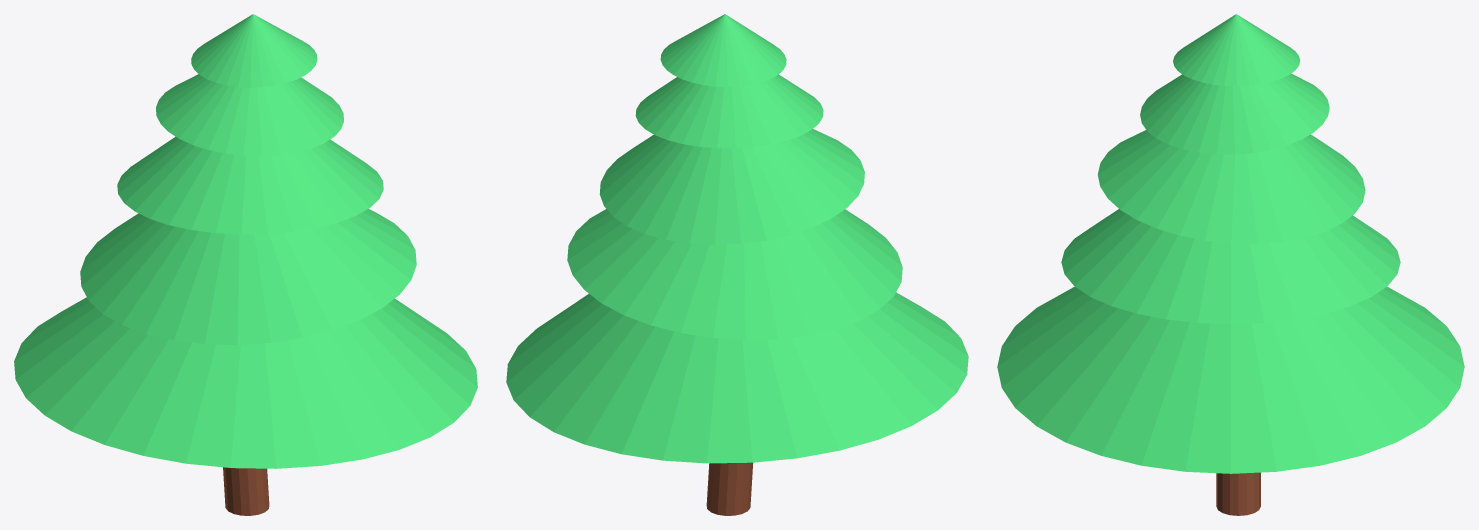
The model's file is Tree2.fbx.
3 renders of one model, left to right at view 1: azimuth 30°, elevation 25°; view 2: azimuth 150°, elevation 25°; view 3: azimuth 270°, elevation 25°, orthographic.
Visible parts, largest first — view 1: Cone, Cylinder; view 2: Cone, Cylinder; view 3: Cone, Cylinder.
Part boxes in pixels (left/top/right/bottom): Cone: left=14, top=14, right=477, bottom=468; Cylinder: left=223, top=467, right=269, bottom=515; Cone: left=506, top=14, right=968, bottom=463; Cylinder: left=706, top=462, right=753, bottom=515; Cone: left=997, top=14, right=1464, bottom=473; Cylinder: left=1216, top=472, right=1260, bottom=515.
Bounding box in the file's own units: 561 × 656 × 561.
